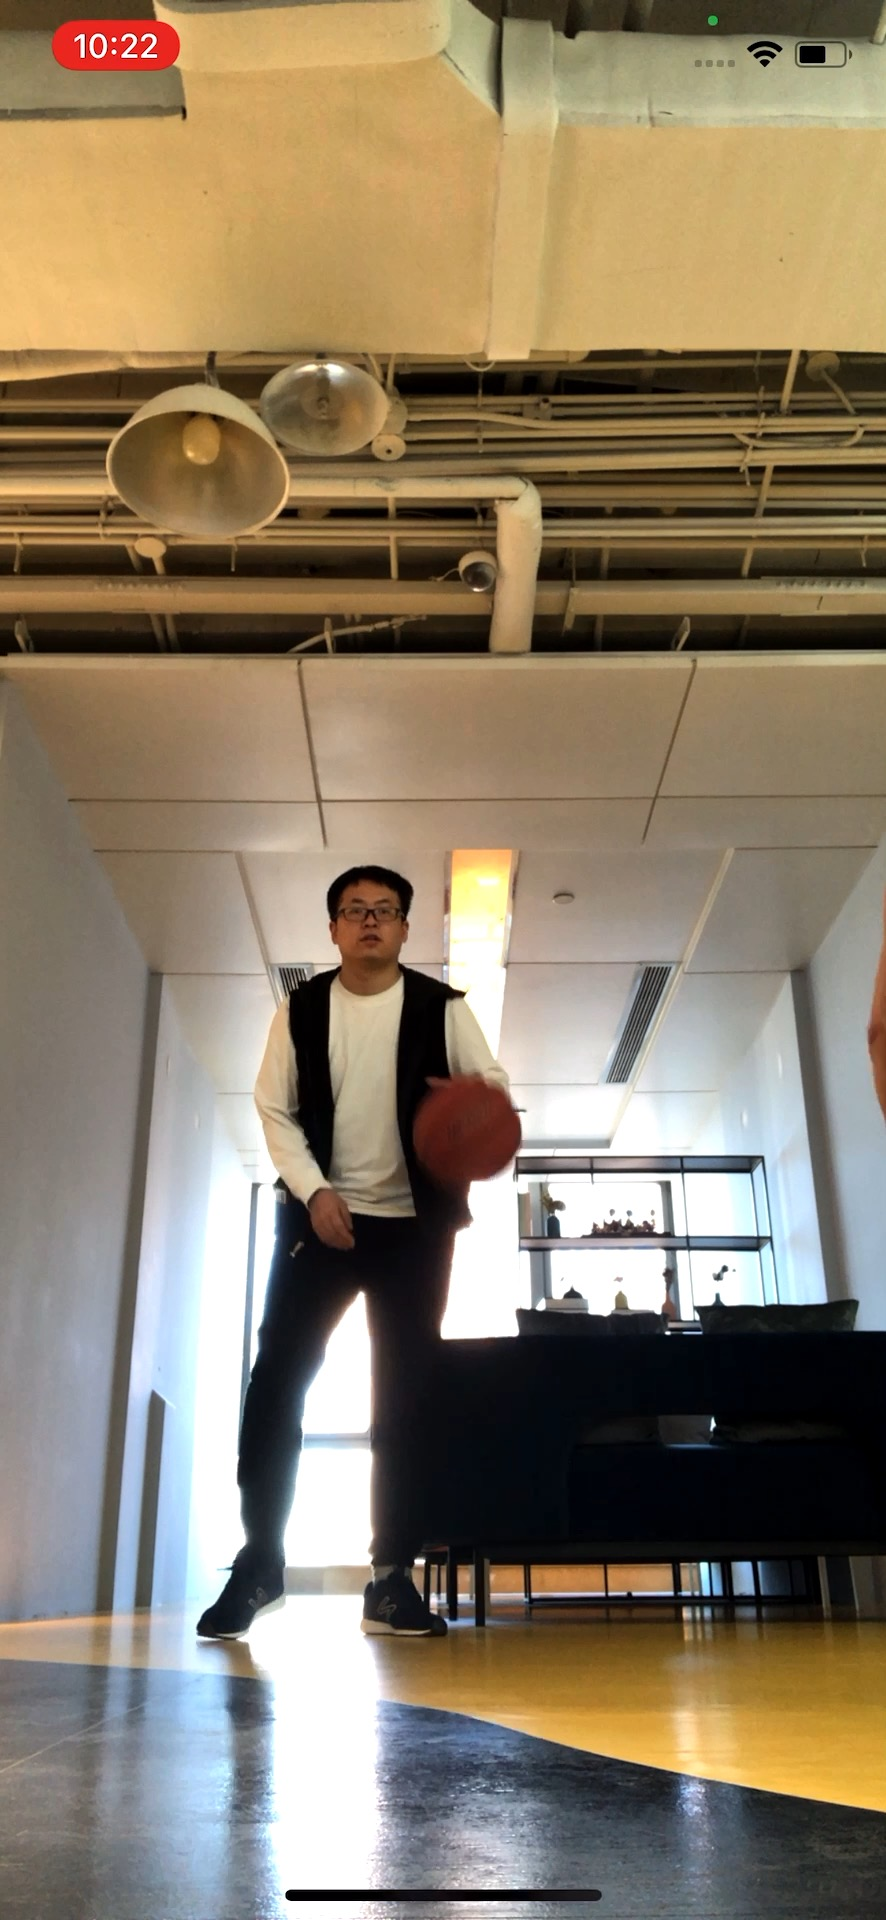ball: (412, 1084, 523, 1187)
